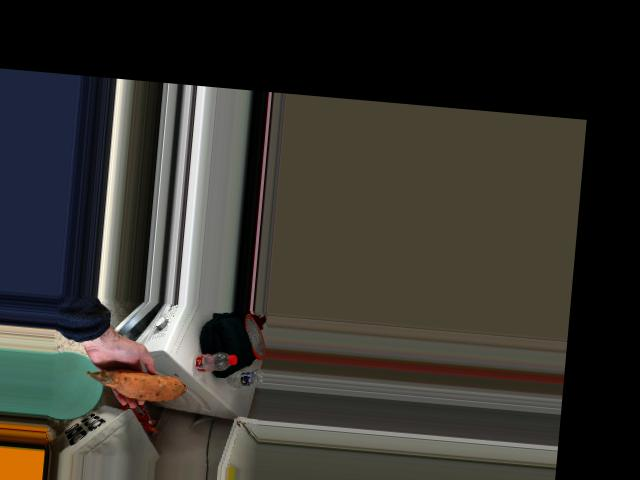sweet_potato: (89, 364, 187, 403)
